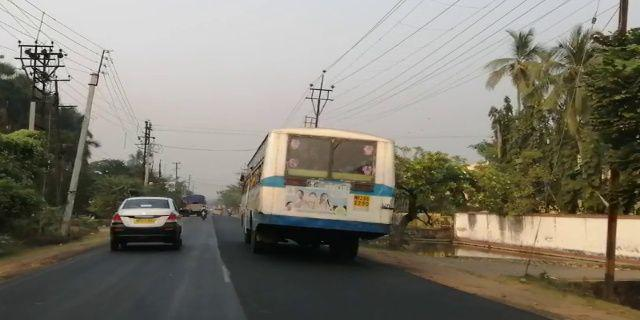Bus: (234, 123, 398, 264)
Car: (103, 193, 185, 250)
